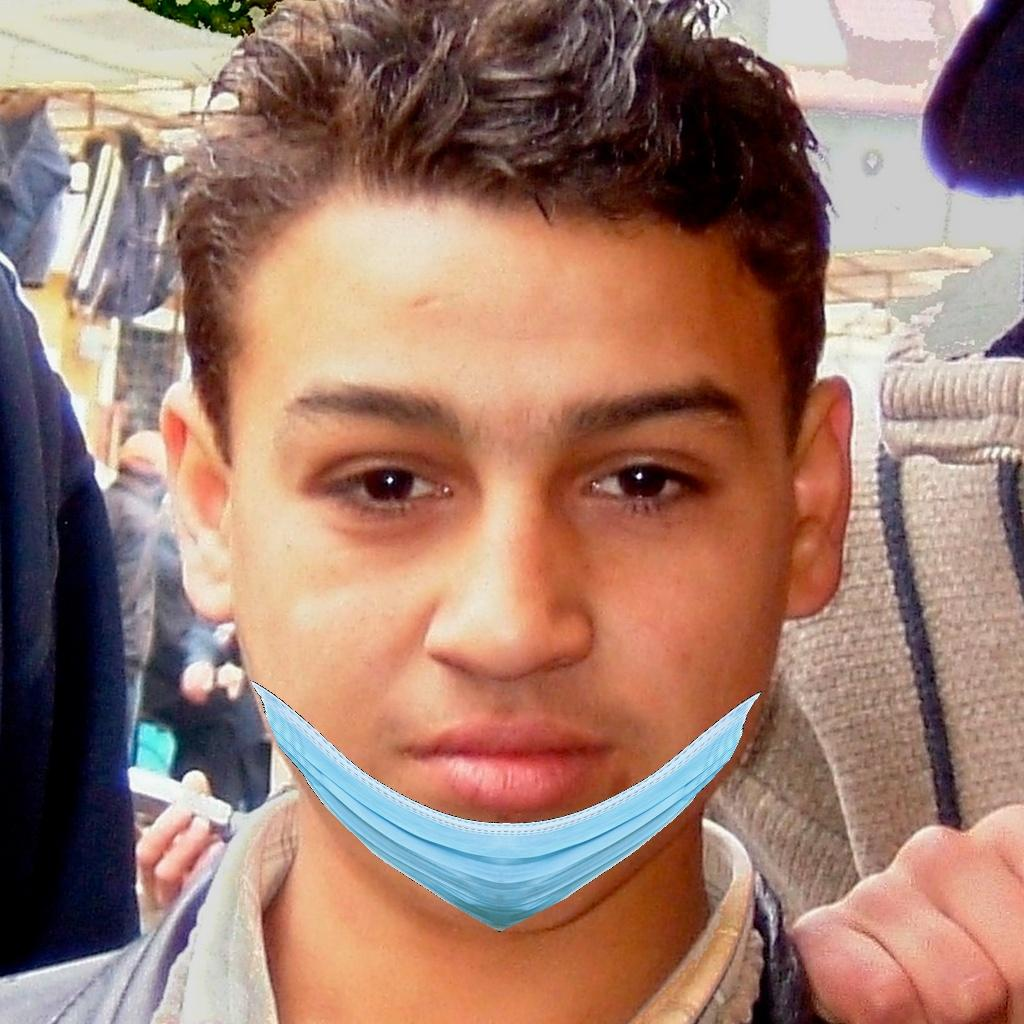Máscara Incorreta: (230, 233, 779, 904)
